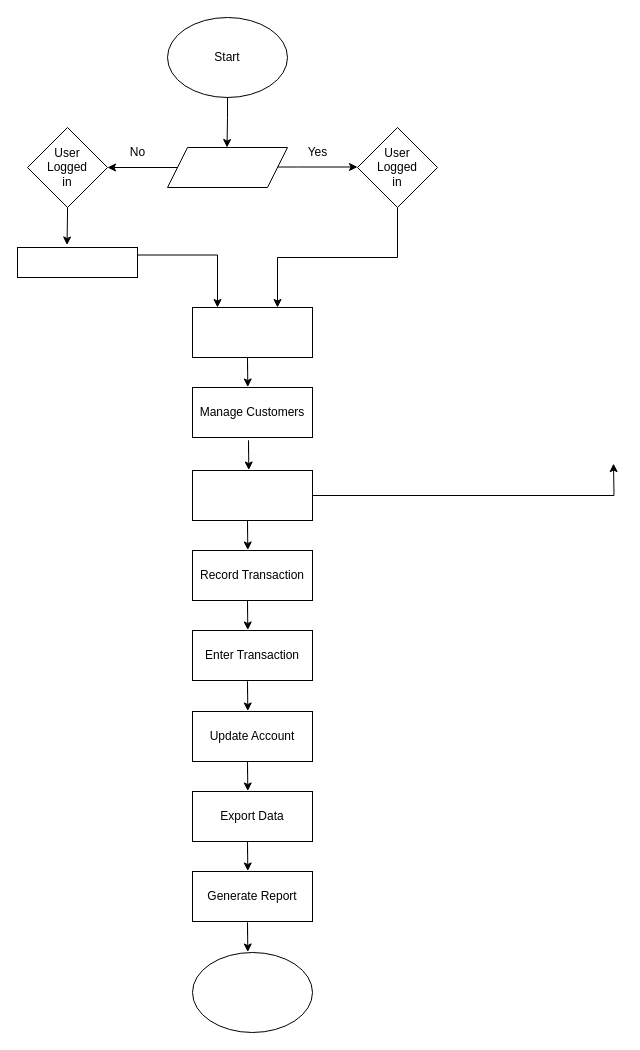
Some shapes in this 640 by 1050 pixel diagram are drawn without their labels. Here are the shapes that lost their labels. From the top down, the centre of each, then its label:
At point 227,167: "Check UserLogin".
At point 77,262: "User Registration".
At point 252,332: "Admin Dashboard".
At point 252,495: "View Transaction".
At point 252,992: "End".
